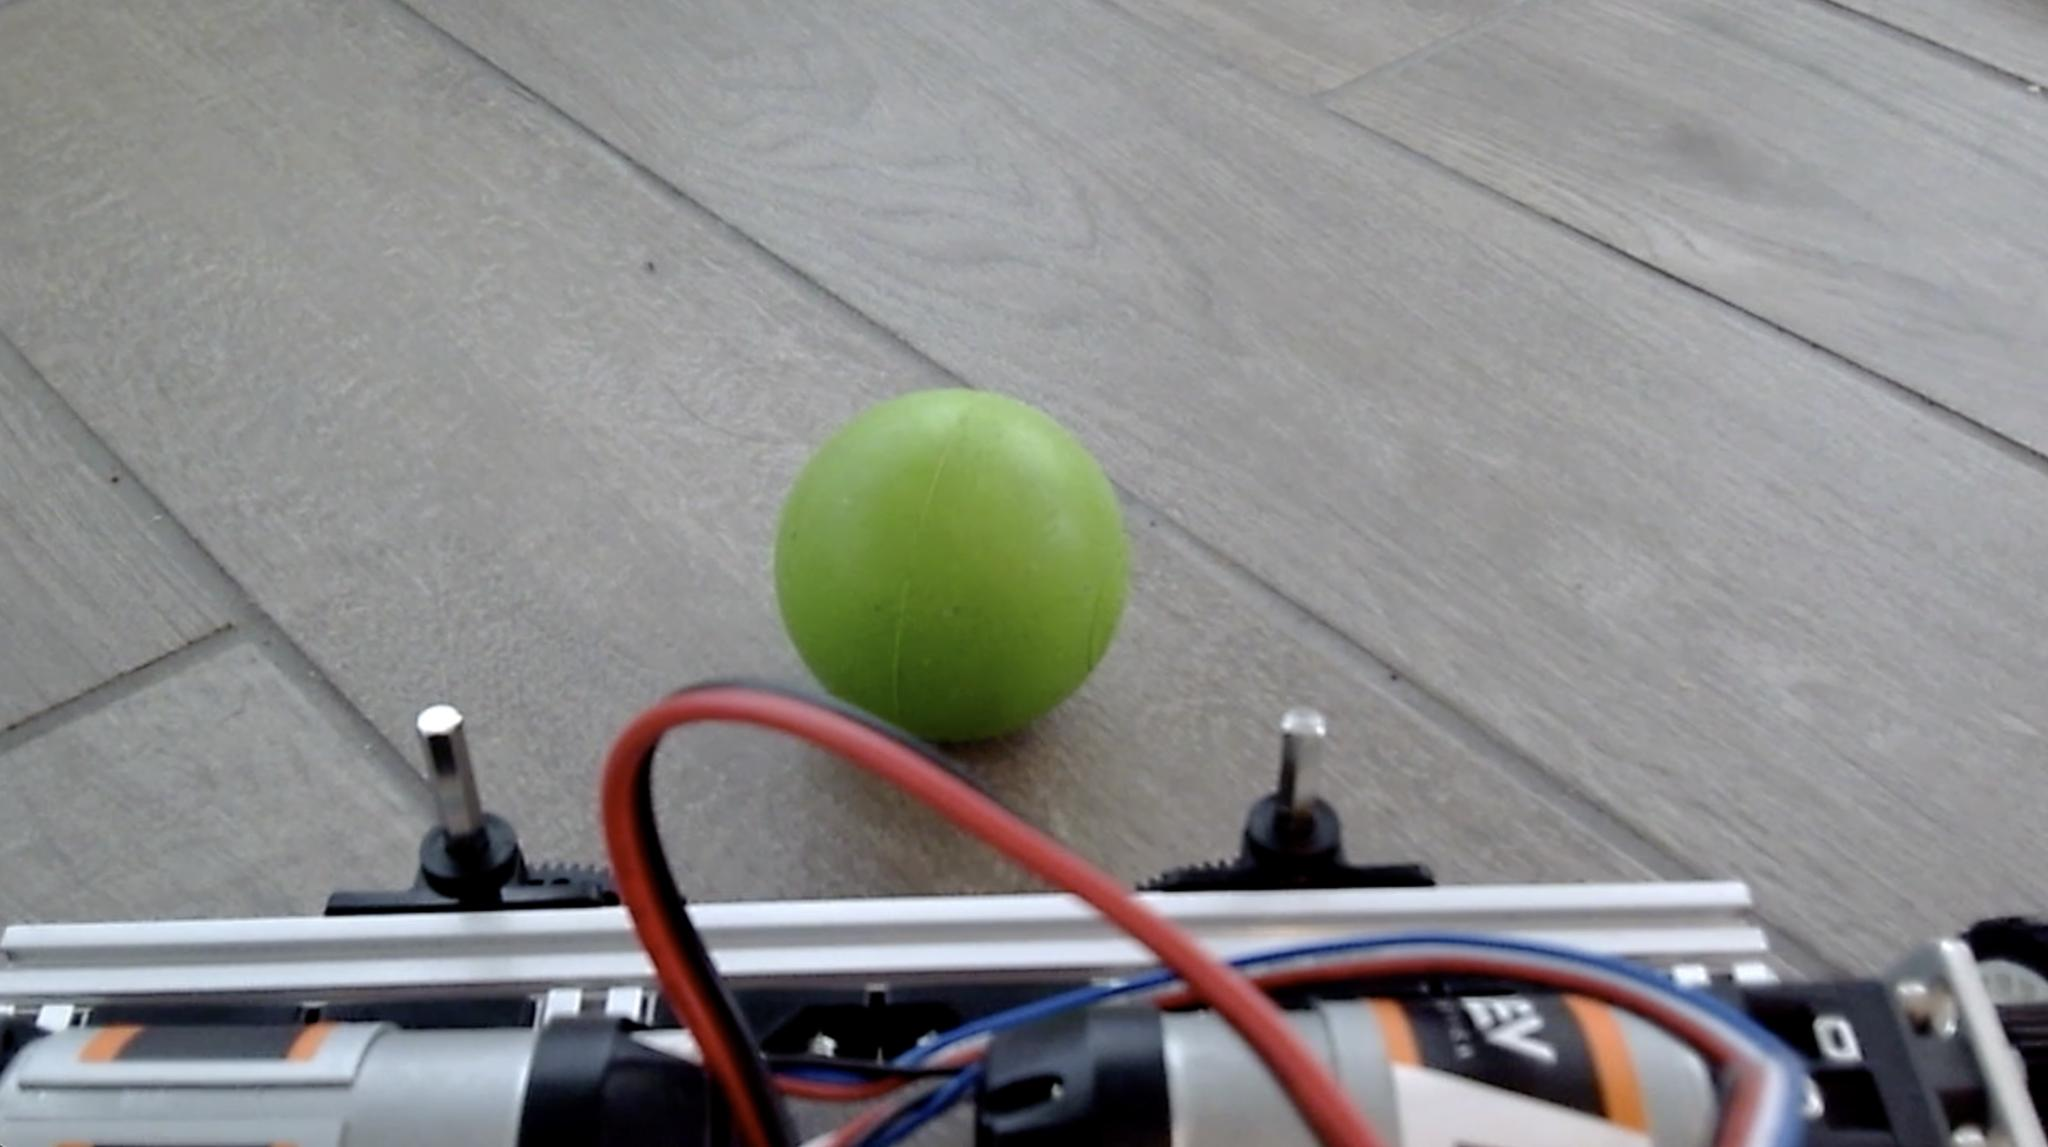greenball: (769, 383, 1132, 746)
